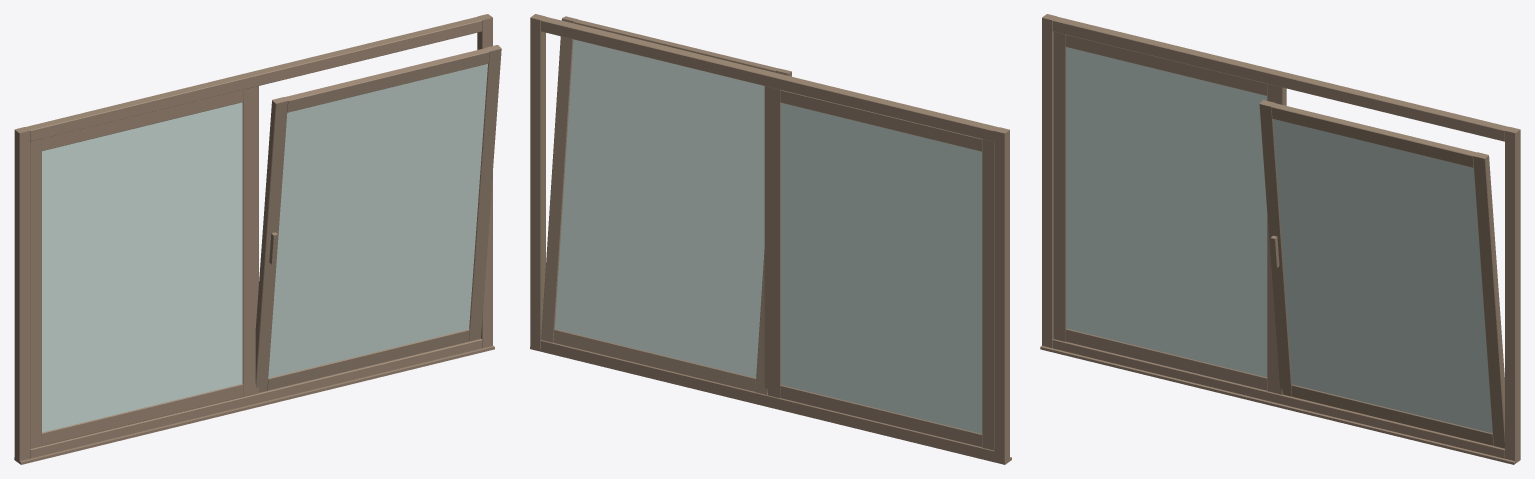
File: bt-S46-2-oscillo-quartz-1019.glb
The picture shows the model from 3 angles, left to right: view 1: azimuth 30°, elevation 25°; view 2: azimuth 150°, elevation 25°; view 3: azimuth 330°, elevation 25°; orthographic projection.
Parts seen in each view (by area): view 1: verre, structure; view 2: verre, structure; view 3: verre, structure.
Part boxes in pixels (box(x1,y1,x2,y2)): verre: box(42, 64, 487, 432); structure: box(14, 14, 501, 464); verre: box(554, 39, 982, 433); structure: box(530, 14, 1011, 464); verre: box(1066, 47, 1492, 433); structure: box(1040, 14, 1520, 464).
Bounding box in the file's own units: 2.4 × 1.6 × 0.2181.
